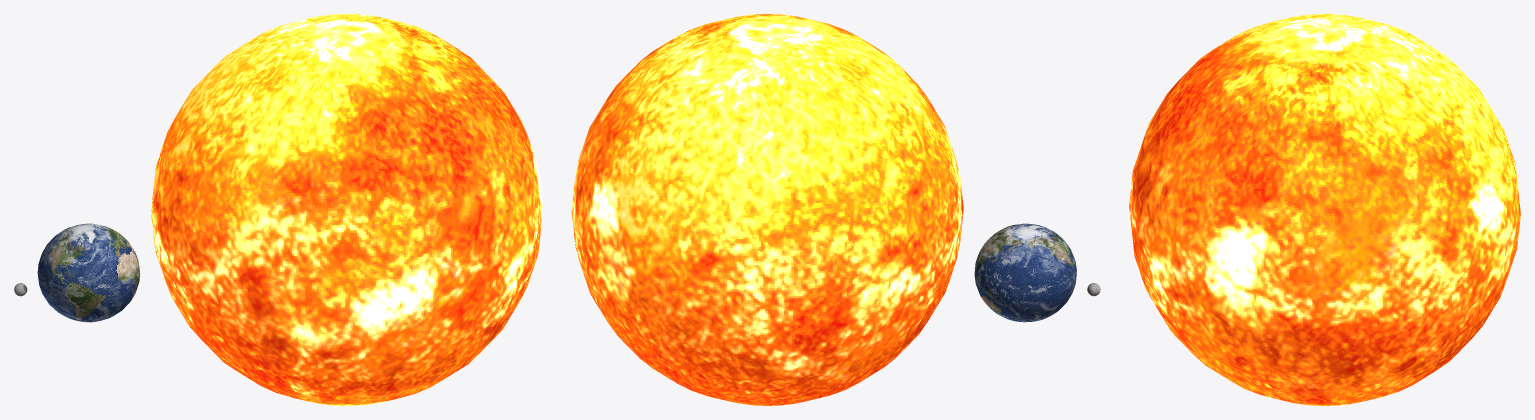
3 renders of one model, left to right at view 1: azimuth 30°, elevation 25°; view 2: azimuth 150°, elevation 25°; view 3: azimuth 270°, elevation 25°, orthographic.
Visible parts, largest first — view 1: sun, earth; view 2: sun, earth; view 3: sun.
Part boxes in pixels (bbox=[...]): sun: bbox=[151, 14, 542, 405]; earth: bbox=[37, 223, 139, 322]; sun: bbox=[571, 14, 963, 405]; earth: bbox=[974, 223, 1076, 322]; sun: bbox=[1129, 14, 1520, 405].
Size of the model in its own units: 72.09 by 48.83 by 48.76.
3 materials, 3 textured.
